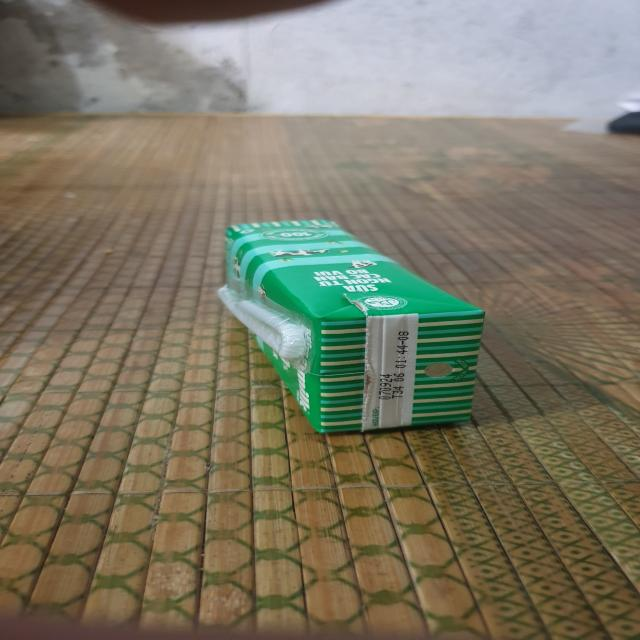Vina: (221, 216, 489, 437)
